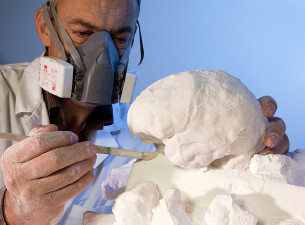face_mask: (38, 1, 136, 106)
